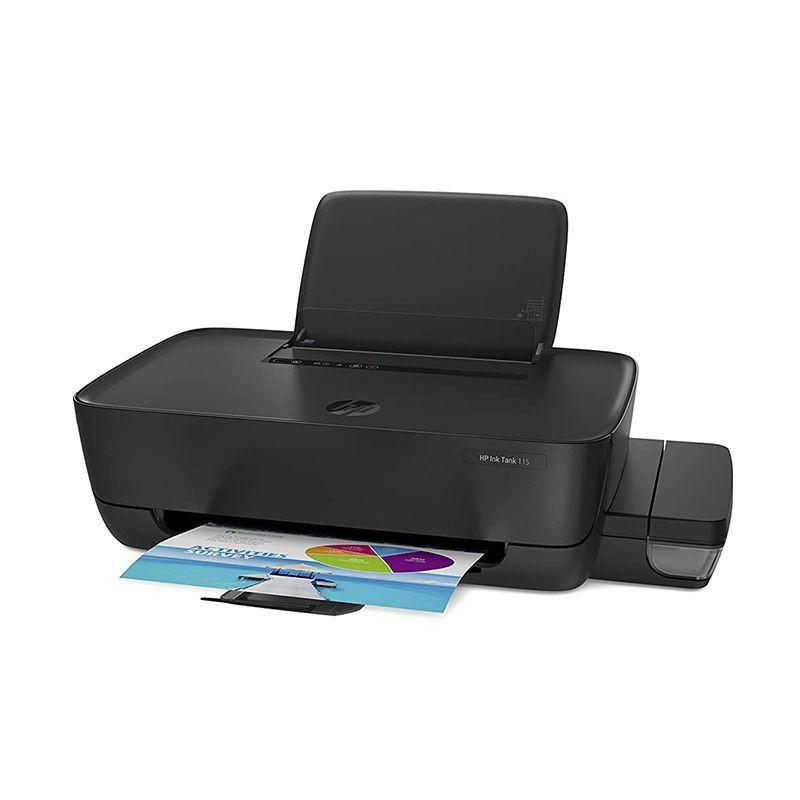Printer: (71, 188, 733, 617)
